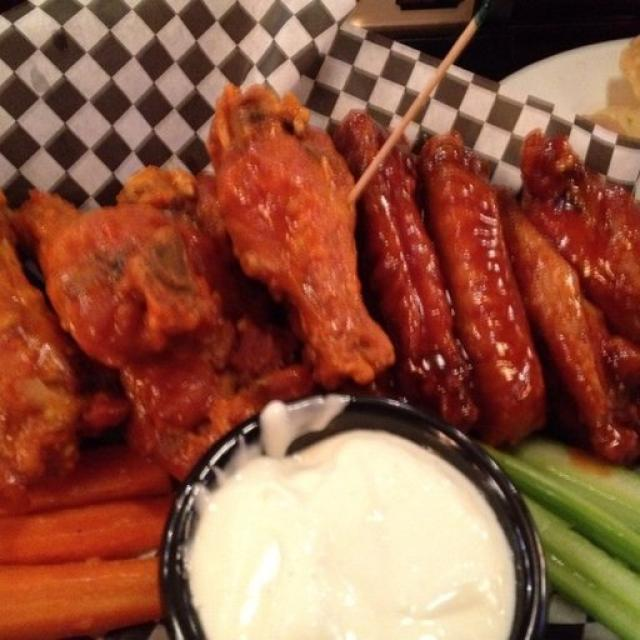Yogurt cup: (185, 419, 515, 640)
